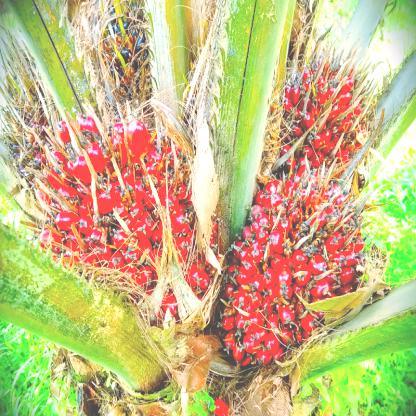1: (30, 110, 216, 323), (221, 166, 373, 365), (260, 53, 388, 168)
palm-oil: (0, 27, 74, 187), (83, 0, 159, 115)
